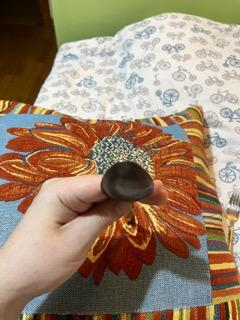spoon: (99, 158, 157, 228)
